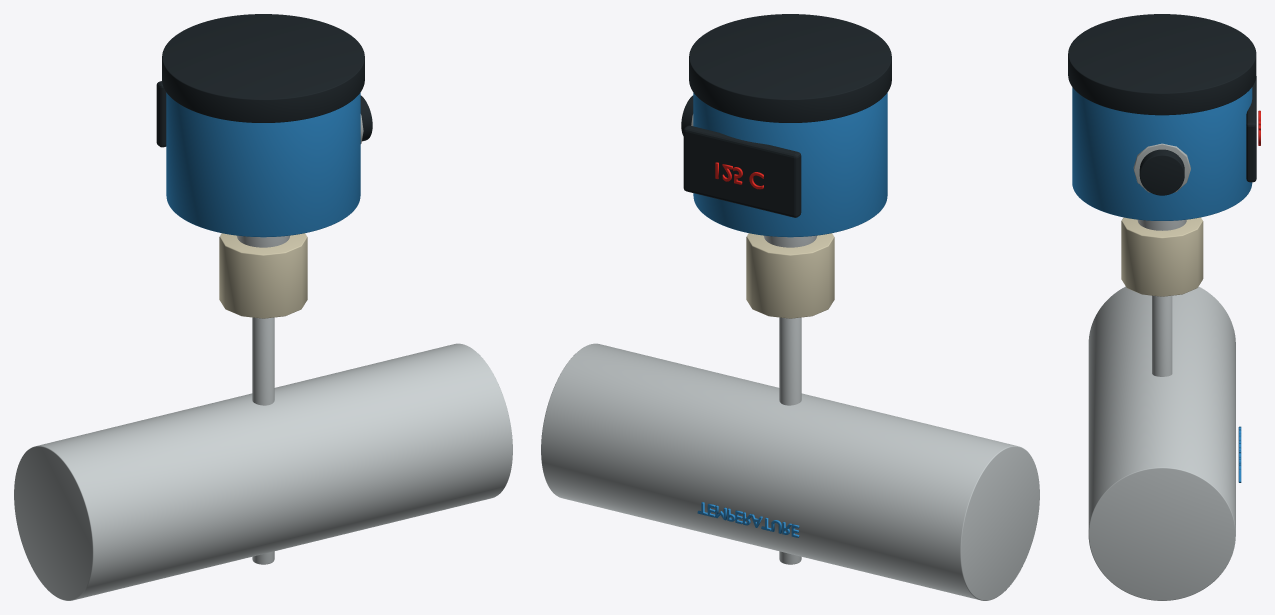
Rendered from rtd_temperature_probe.glb.
The picture shows the model from 3 angles, left to right: view 1: azimuth 30°, elevation 25°; view 2: azimuth 150°, elevation 25°; view 3: azimuth 270°, elevation 25°; orthographic projection. The views are drawn at different scales.
Parts seen in each view (by area): view 1: PROCESS_pipe, CONNECTION_head, HEAD_cap, COMPRESSION_fitting, RTD_probe, TEMP_display; view 2: PROCESS_pipe, HEAD_cap, CONNECTION_head, TEMP_display, COMPRESSION_fitting, RTD_probe, PIPE_TEMP_label; view 3: PROCESS_pipe, CONNECTION_head, HEAD_cap, COMPRESSION_fitting, M12_body, RTD_probe, TEMP_display, M12_nut, HEAD_neck.
Boxes of the visible parts, <box> form: PROCESS_pipe: <box>14,343,512,600</box>; CONNECTION_head: <box>166,92,360,237</box>; HEAD_cap: <box>162,14,364,122</box>; COMPRESSION_fitting: <box>219,233,307,318</box>; RTD_probe: <box>252,317,274,564</box>; TEMP_display: <box>156,81,166,147</box>; PROCESS_pipe: <box>541,343,1039,600</box>; HEAD_cap: <box>689,14,891,122</box>; CONNECTION_head: <box>693,92,887,237</box>; TEMP_display: <box>683,125,801,217</box>; COMPRESSION_fitting: <box>746,233,834,318</box>; RTD_probe: <box>779,317,801,564</box>; PIPE_TEMP_label: <box>697,502,799,537</box>; PROCESS_pipe: <box>1088,286,1235,600</box>; CONNECTION_head: <box>1072,87,1252,220</box>; HEAD_cap: <box>1068,14,1256,115</box>; COMPRESSION_fitting: <box>1121,217,1203,296</box>; M12_body: <box>1139,149,1184,195</box>; RTD_probe: <box>1152,295,1172,376</box>; TEMP_display: <box>1246,76,1256,182</box>; M12_nut: <box>1133,143,1190,192</box>; HEAD_neck: <box>1137,219,1186,230</box>.
Size of the model in its own units: 1.1 by 1.26 by 0.471.
